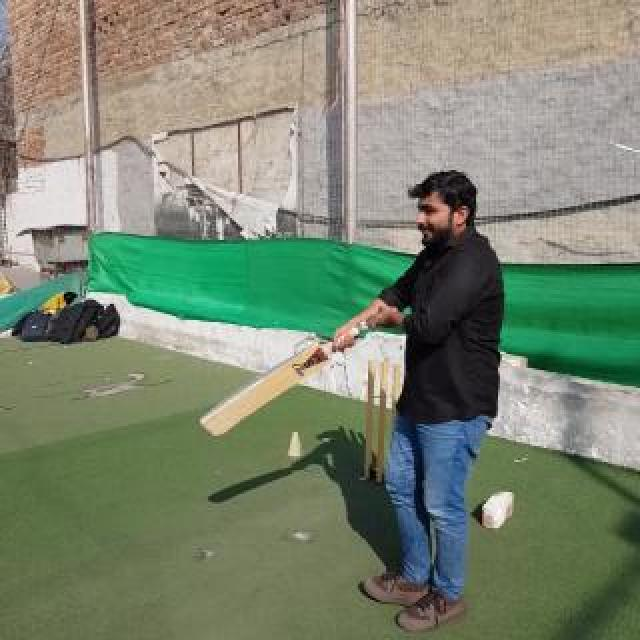bat: (199, 320, 375, 436)
